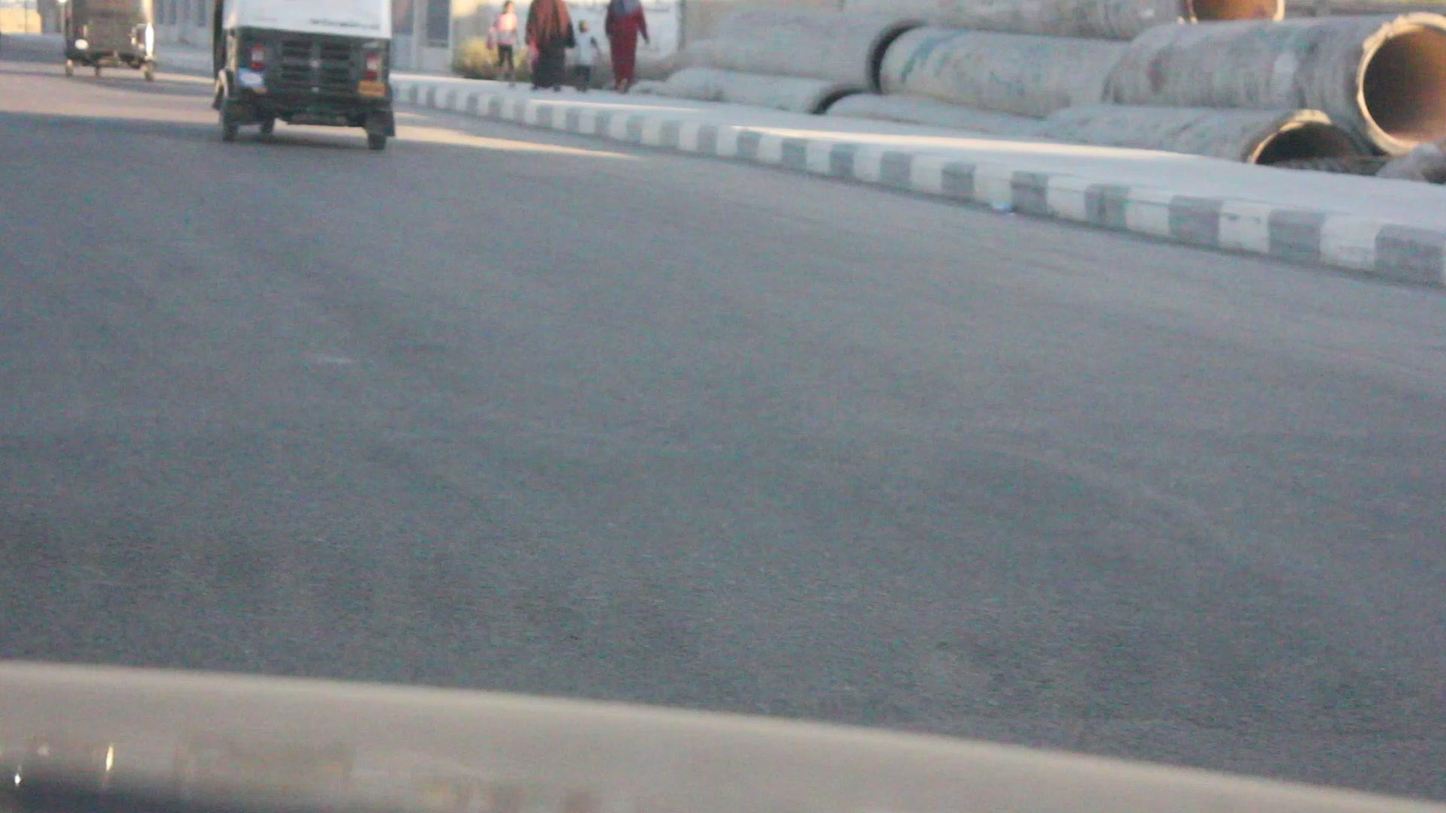Bump: (0, 390, 1438, 732)
